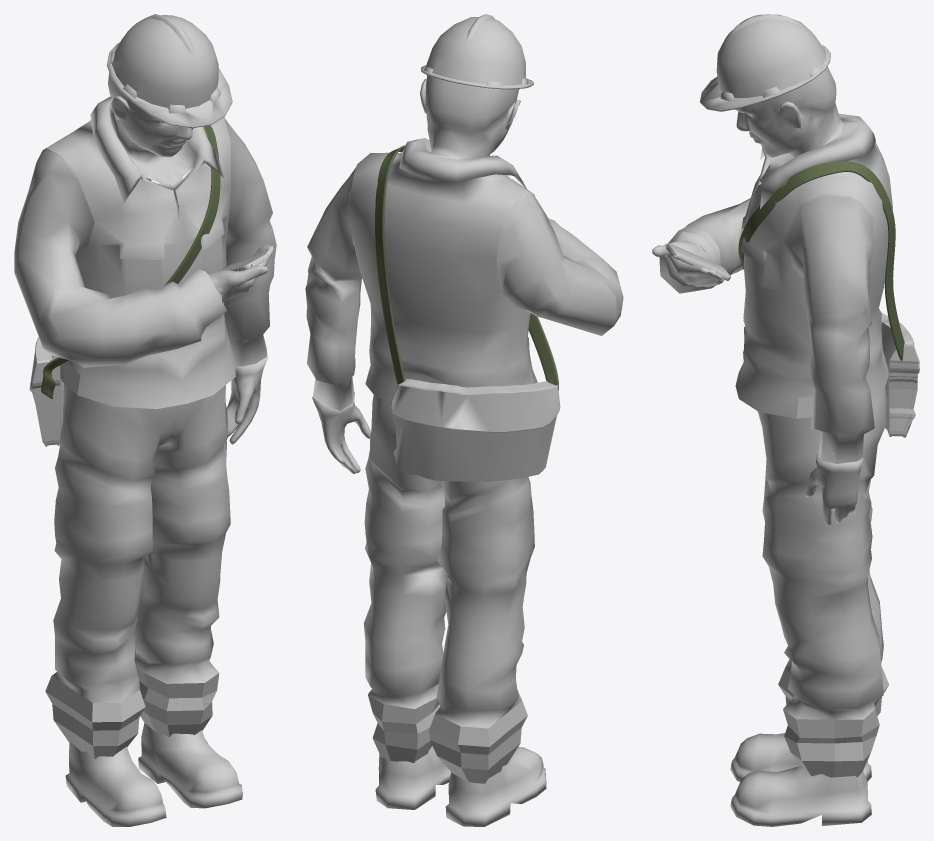
The model's file is kanshouji.gltf.
3 renders of one model, left to right at view 1: azimuth 30°, elevation 25°; view 2: azimuth 150°, elevation 25°; view 3: azimuth 270°, elevation 25°, orthographic. The views are drawn at different scales.
Visible parts, largest first — view 1: 1, 1_1; view 2: 1, 1_1; view 3: 1, 1_1.
Part boxes in pixels (box(x1,y1,x2,y2)): 1: box(14, 14, 276, 826); 1_1: box(29, 125, 220, 446); 1: box(305, 14, 623, 826); 1_1: box(375, 145, 560, 481); 1: box(652, 14, 892, 826); 1_1: box(738, 161, 919, 437).
Size of the model in its own units: 0.6195 by 1.7 by 0.5292.
